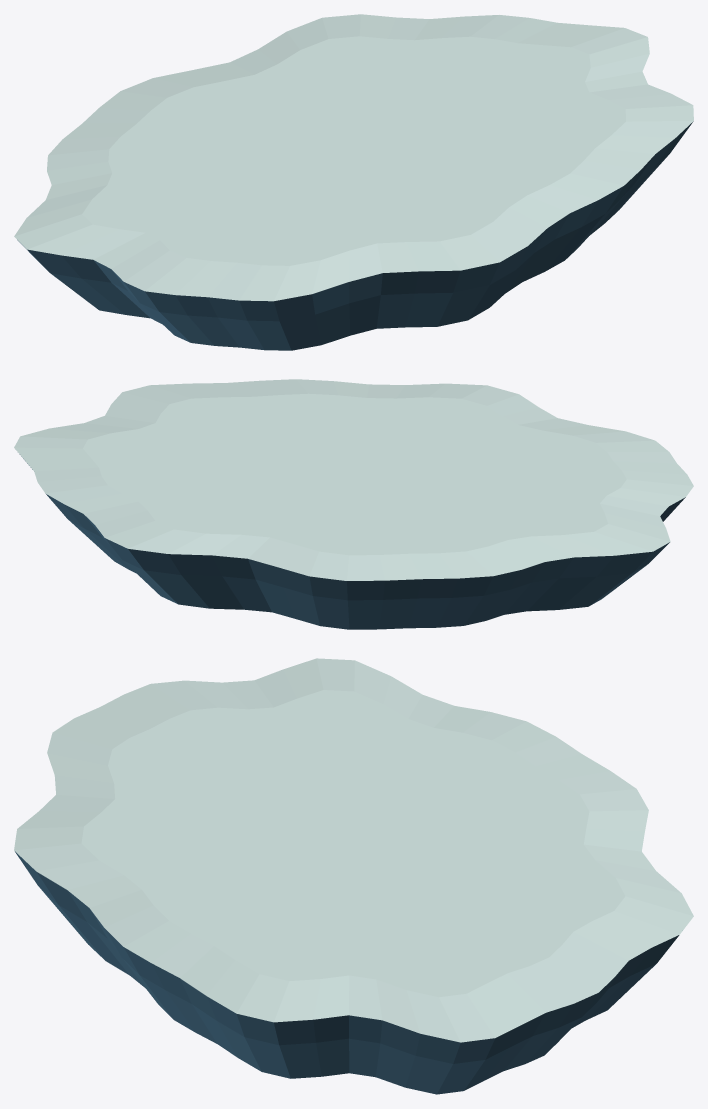
The model's file is Terrain_FrostboundGlacier.glb.
3 views of the same model, one above another, from view 1: azimuth 30°, elevation 25°; view 2: azimuth 150°, elevation 25°; view 3: azimuth 270°, elevation 25° (orthographic). The views are drawn at different scales.
Visible parts, largest first — view 1: Terrain_FrostboundGlacier_FrostboundGlacier_ground_4_1, Terrain_FrostboundGlacier_FrostboundGlacier_dark_4_1; view 2: Terrain_FrostboundGlacier_FrostboundGlacier_ground_4_1, Terrain_FrostboundGlacier_FrostboundGlacier_dark_4_1; view 3: Terrain_FrostboundGlacier_FrostboundGlacier_ground_4_1, Terrain_FrostboundGlacier_FrostboundGlacier_dark_4_1.
Part boxes in pixels (<box>): Terrain_FrostboundGlacier_FrostboundGlacier_ground_4_1: <box>14,14,693,301</box>; Terrain_FrostboundGlacier_FrostboundGlacier_dark_4_1: <box>17,121,693,350</box>; Terrain_FrostboundGlacier_FrostboundGlacier_ground_4_1: <box>14,379,693,580</box>; Terrain_FrostboundGlacier_FrostboundGlacier_dark_4_1: <box>19,454,685,629</box>; Terrain_FrostboundGlacier_FrostboundGlacier_ground_4_1: <box>14,658,693,1042</box>; Terrain_FrostboundGlacier_FrostboundGlacier_dark_4_1: <box>15,851,679,1094</box>.
Bounding box in the file's own units: 473 × 58 × 354.
